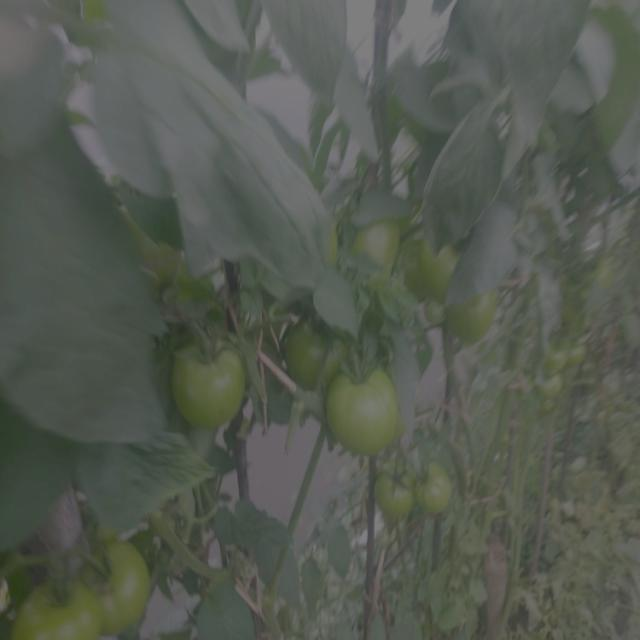tomato: (168, 334, 253, 434), (330, 359, 407, 457), (83, 539, 158, 634), (280, 316, 350, 389), (20, 578, 99, 640), (369, 464, 420, 527), (354, 214, 401, 279), (447, 291, 500, 348), (423, 229, 463, 294), (423, 458, 459, 523), (313, 217, 344, 269), (579, 254, 619, 291), (534, 368, 564, 406), (570, 341, 594, 372), (545, 343, 569, 370)
